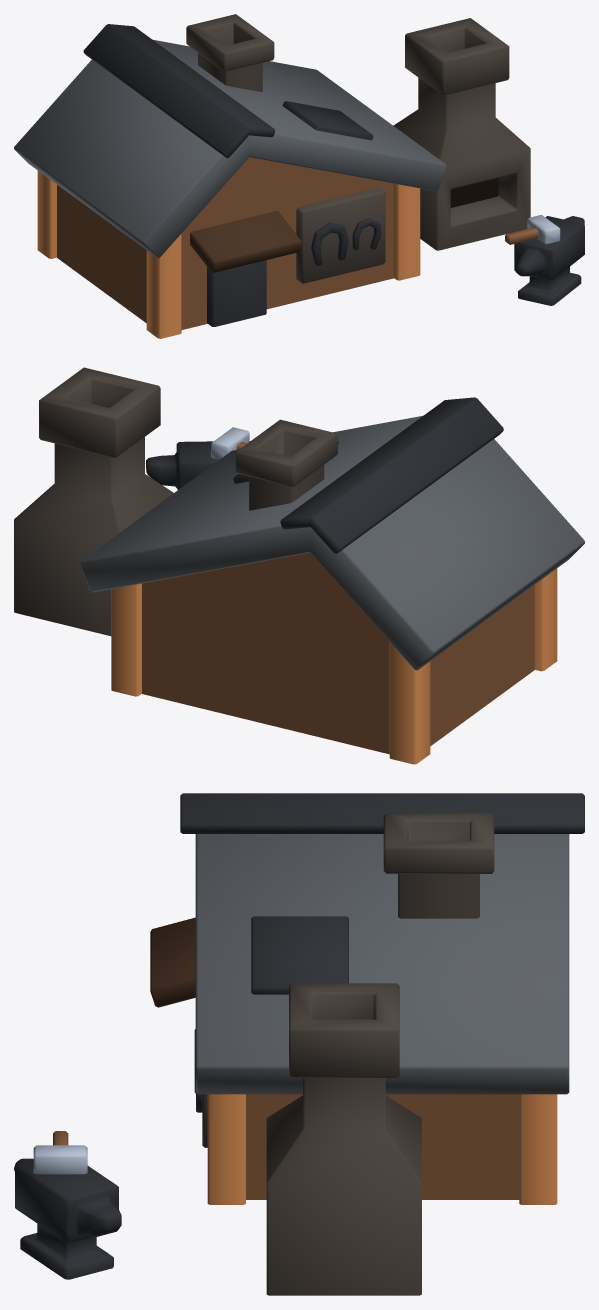
File: Blacksmith.fbx
3 views of the same model, one above another, from view 1: azimuth 30°, elevation 25°; view 2: azimuth 150°, elevation 25°; view 3: azimuth 270°, elevation 25° (orthographic). The views are drawn at different scales.
Parts seen in each view (by area): view 1: Cube.1146, Cube.1156, Cube.1145, Cube.1155, Cube.1152, Cube.1151, Cube.1147, Cube.1148, Cube.1153, Cube.1149, Cube.1150, Cube.1157 (+3 smaller); view 2: Cube.1146, Cube.1145, Cube.1156, Cube.1155, Cube.1151, Cube.1147, Cube.1150, Cube.1153, Cube.1154; view 3: Cube.1146, Cube.1156, Cube.1155, Cube.1145, Cube.1147, Cube.1153, Cube.1150, Cube.1157, Cube.1148, Cube.1154.
Part boxes in pixels (box(x1,y1,x2,y2)): Cube.1146: box(14, 40, 446, 257); Cube.1156: box(393, 18, 530, 250); Cube.1145: box(57, 157, 393, 329); Cube.1155: box(83, 24, 275, 158); Cube.1152: box(296, 187, 385, 283); Cube.1151: box(37, 171, 181, 338); Cube.1147: box(186, 14, 274, 91); Cube.1148: box(190, 211, 301, 272); Cube.1153: box(514, 216, 584, 305); Cube.1149: box(207, 260, 266, 326); Cube.1150: box(394, 183, 420, 280); Cube.1157: box(282, 101, 373, 140); Cube.1146: box(80, 416, 584, 670); Cube.1145: box(142, 552, 534, 754); Cube.1156: box(14, 367, 173, 636); Cube.1155: box(280, 397, 503, 553); Cube.1151: box(389, 568, 557, 764); Cube.1147: box(235, 419, 337, 510); Cube.1150: box(111, 583, 141, 696); Cube.1153: box(146, 441, 250, 489); Cube.1154: box(211, 427, 249, 459); Cube.1146: box(195, 834, 569, 1094); Cube.1156: box(266, 983, 421, 1295); Cube.1155: box(180, 793, 584, 833); Cube.1145: box(246, 1094, 519, 1199); Cube.1147: box(383, 813, 494, 918); Cube.1153: box(14, 1158, 121, 1279); Cube.1150: box(207, 1094, 557, 1204); Cube.1157: box(251, 916, 348, 994); Cube.1148: box(150, 917, 195, 1007); Cube.1154: box(33, 1131, 87, 1174).
Bounding box in the file's own units: 182 × 88.36 × 153.
